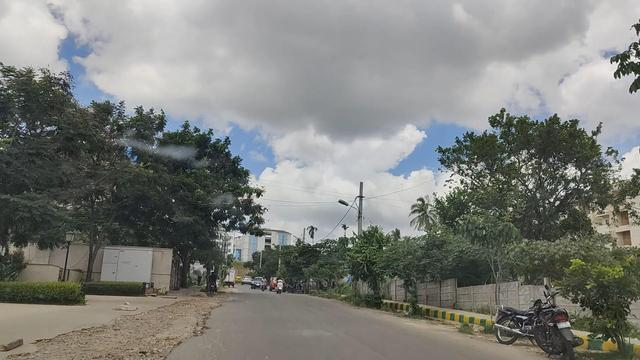RoadDamages: (40, 295, 260, 349)
